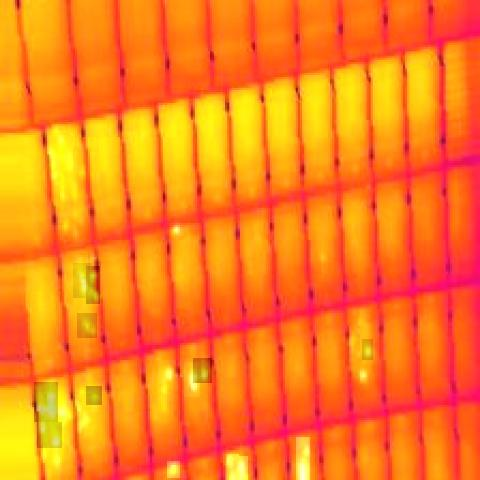fault: (34, 382, 58, 422), (73, 263, 92, 298), (158, 360, 174, 401), (37, 422, 62, 448), (296, 437, 310, 480), (184, 362, 200, 397), (86, 266, 100, 304), (77, 313, 97, 338), (193, 358, 212, 383), (226, 454, 239, 480), (234, 456, 248, 480), (356, 364, 370, 386), (86, 386, 102, 405), (362, 339, 373, 360), (167, 461, 180, 478), (170, 223, 184, 236)
